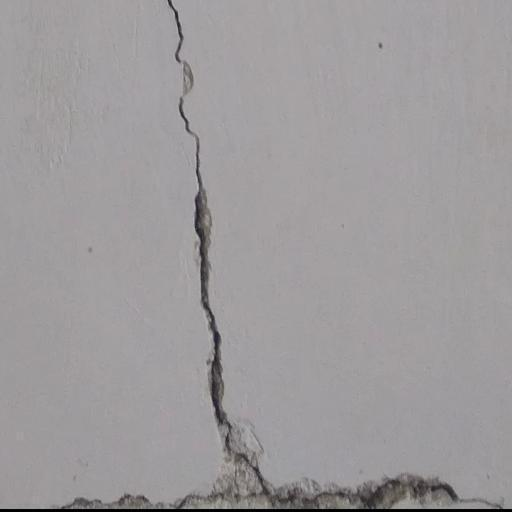major_crack: (161, 0, 279, 512), (49, 462, 501, 508)
